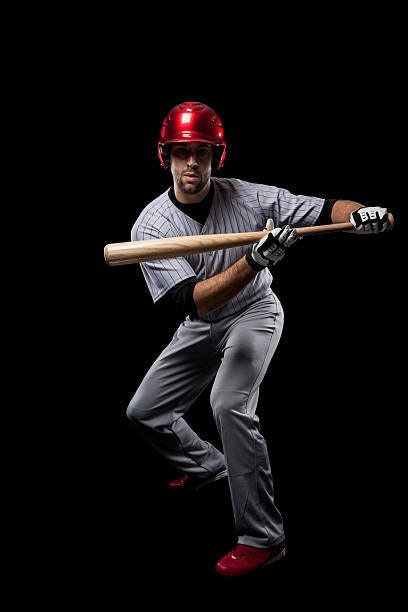bita: (105, 213, 384, 272)
